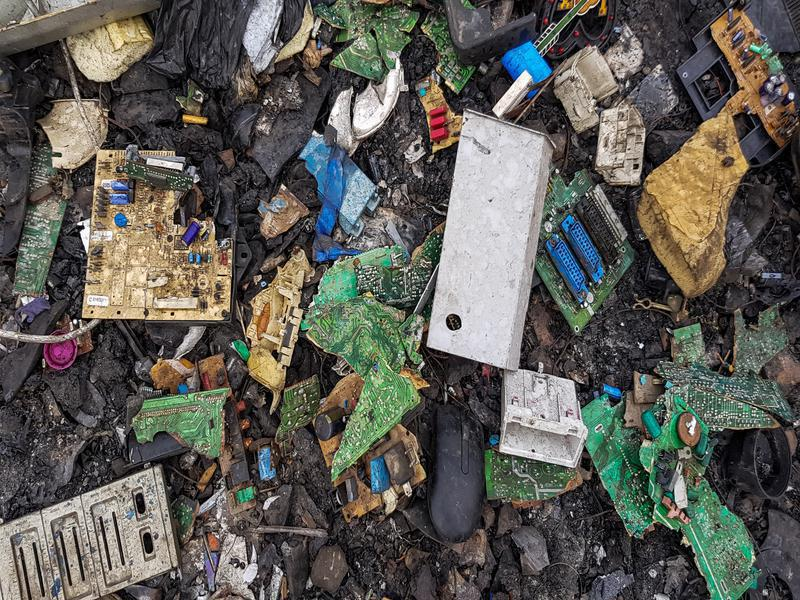circuit_board: (581, 396, 762, 600), (72, 139, 249, 334), (529, 159, 643, 337), (308, 1, 479, 102), (703, 9, 800, 155), (324, 353, 429, 483), (642, 351, 800, 434), (236, 245, 314, 396), (9, 138, 78, 308), (128, 376, 245, 469), (307, 294, 433, 377), (472, 442, 584, 504), (724, 298, 800, 375)
